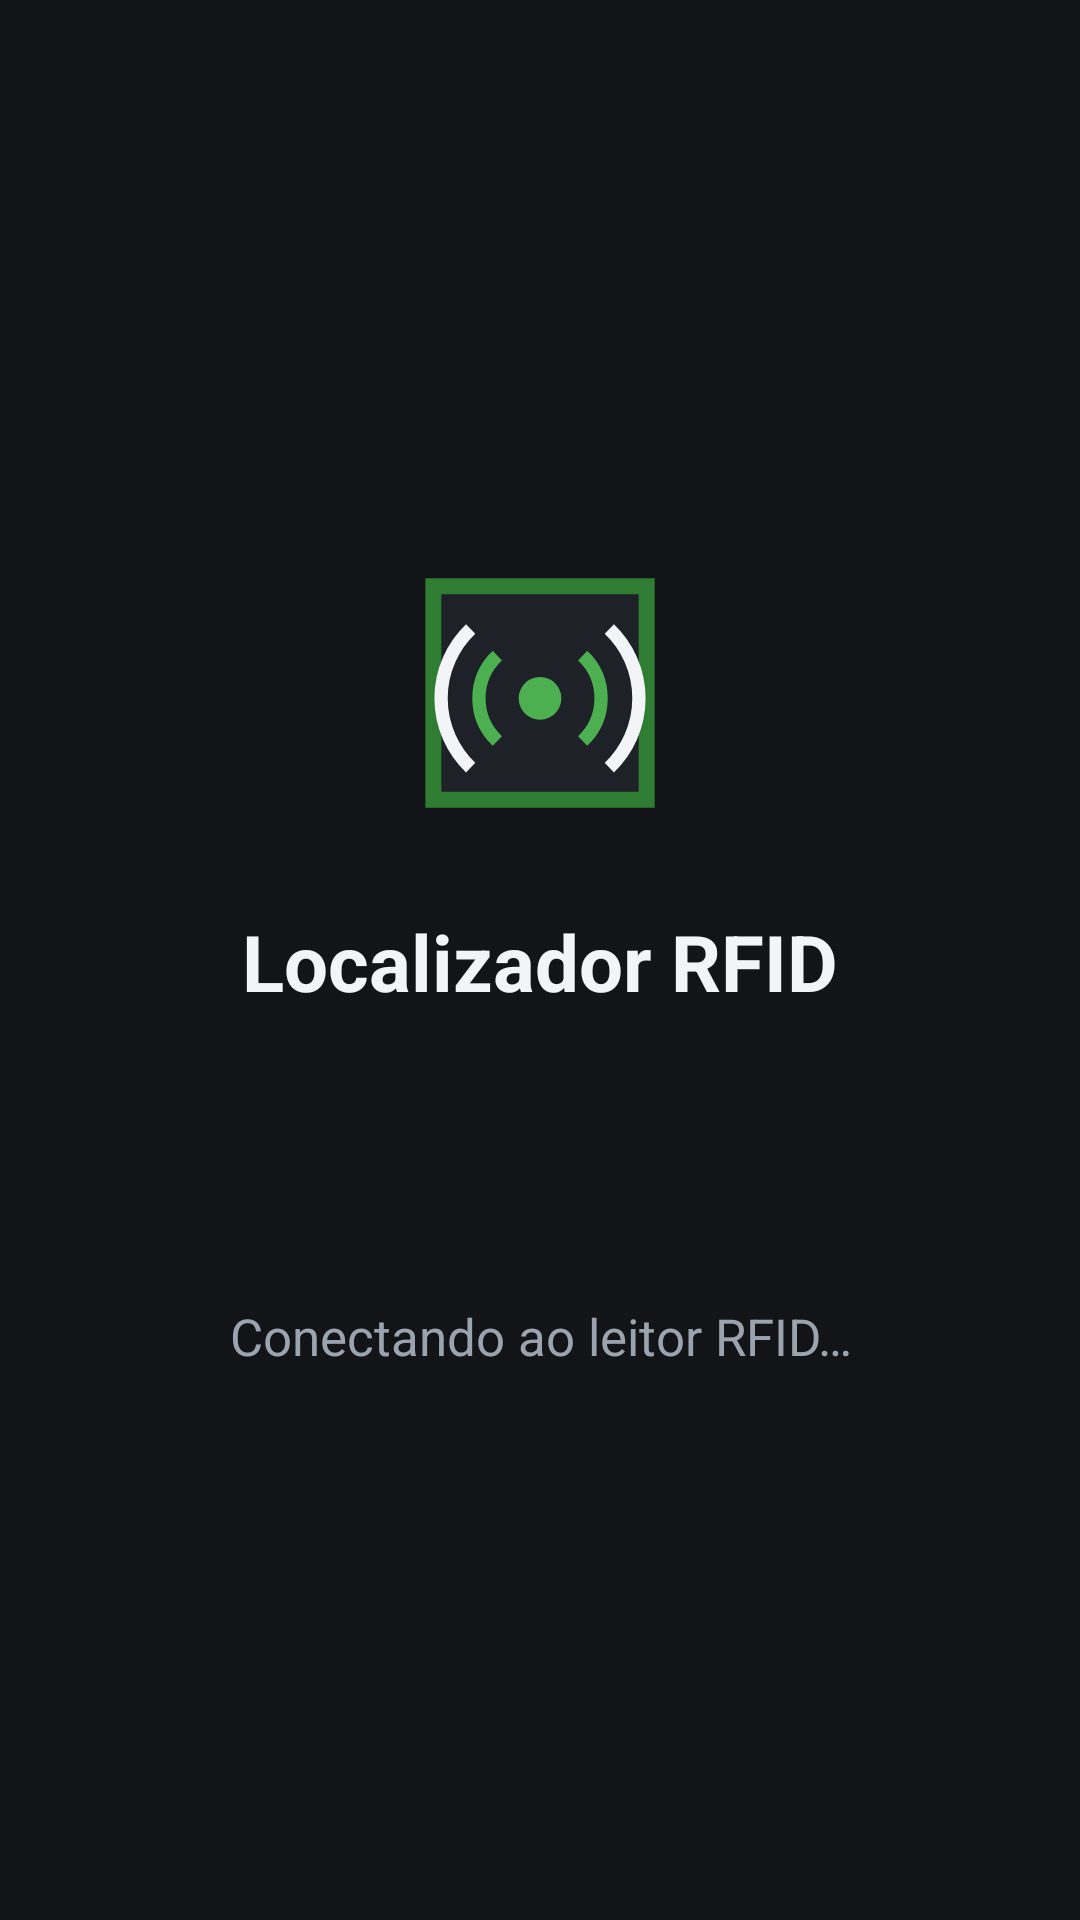

Screen size 1080x1920. Icon name, then its box in pixels as (x1, y1, x2, y2):
app: (425, 578, 655, 808)
